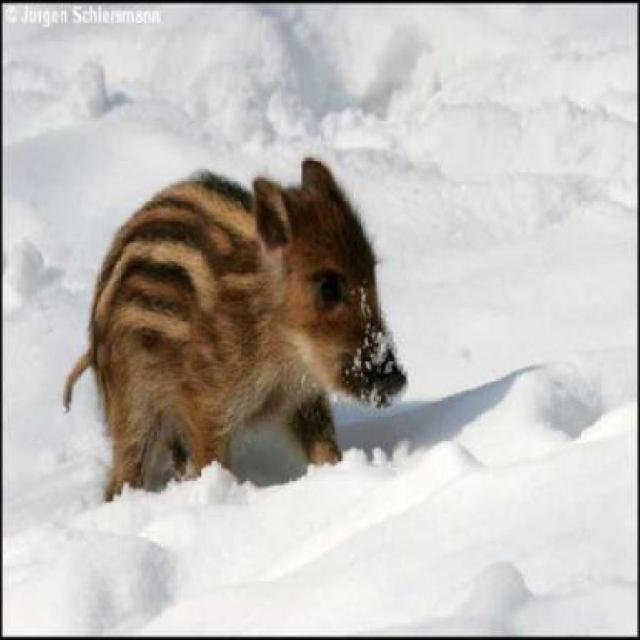WildBoar: (85, 138, 429, 525)
